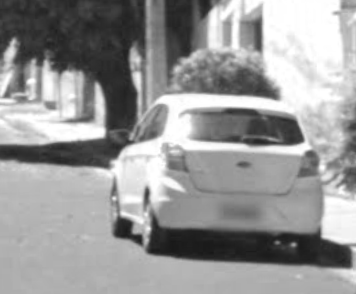car: (101, 88, 331, 260)
